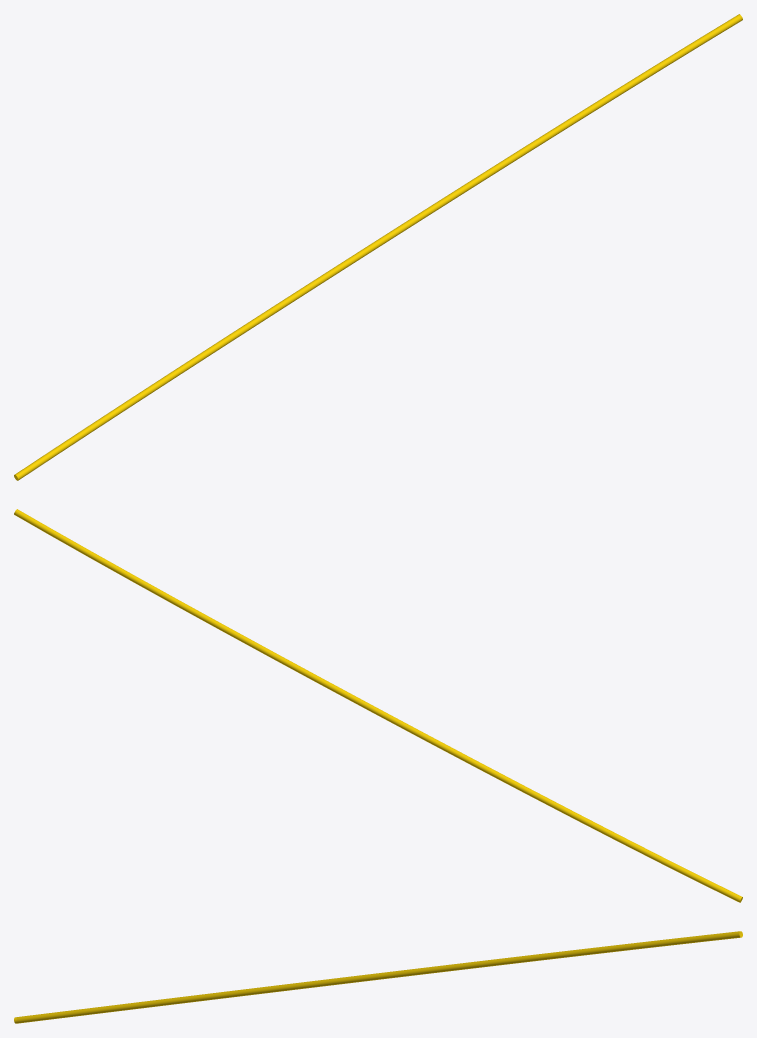
The model's file is Event_421115418_track_191.fbx.
3 renders of one model, top to bottom at view 1: azimuth 30°, elevation 25°; view 2: azimuth 150°, elevation 25°; view 3: azimuth 330°, elevation 25°, orthographic. The views are drawn at different scales.
Parts seen in each view (by area): view 1: Model; view 2: Model; view 3: Model.
Part boxes in pixels (left/top/right/bottom): Model: left=14, top=14, right=742, bottom=480; Model: left=14, top=509, right=742, bottom=902; Model: left=14, top=931, right=742, bottom=1023.
Bounding box in the file's own units: 4.94 × 1.63 × 0.3667.
